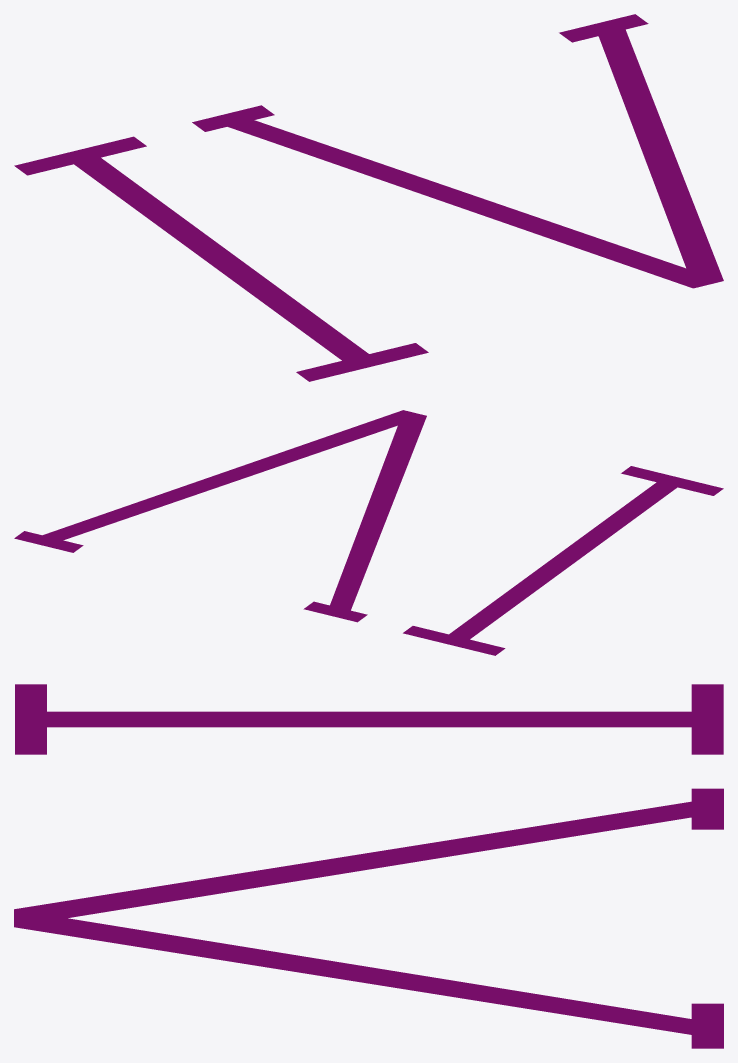
File: four.fbx
3 views of the same model, one above another, from view 1: azimuth 30°, elevation 25°; view 2: azimuth 150°, elevation 25°; view 3: azimuth 270°, elevation 25° (orthographic). The views are drawn at different scales.
Parts seen in each view (by area): view 1: four; view 2: four; view 3: four.
Boxes of the visible parts, bbox=[...] form: four: bbox=[14, 14, 723, 381]; four: bbox=[14, 410, 723, 655]; four: bbox=[14, 684, 723, 1048].
Bounding box in the file's own units: 1.34 × 2.58e-07 × 1.1.
